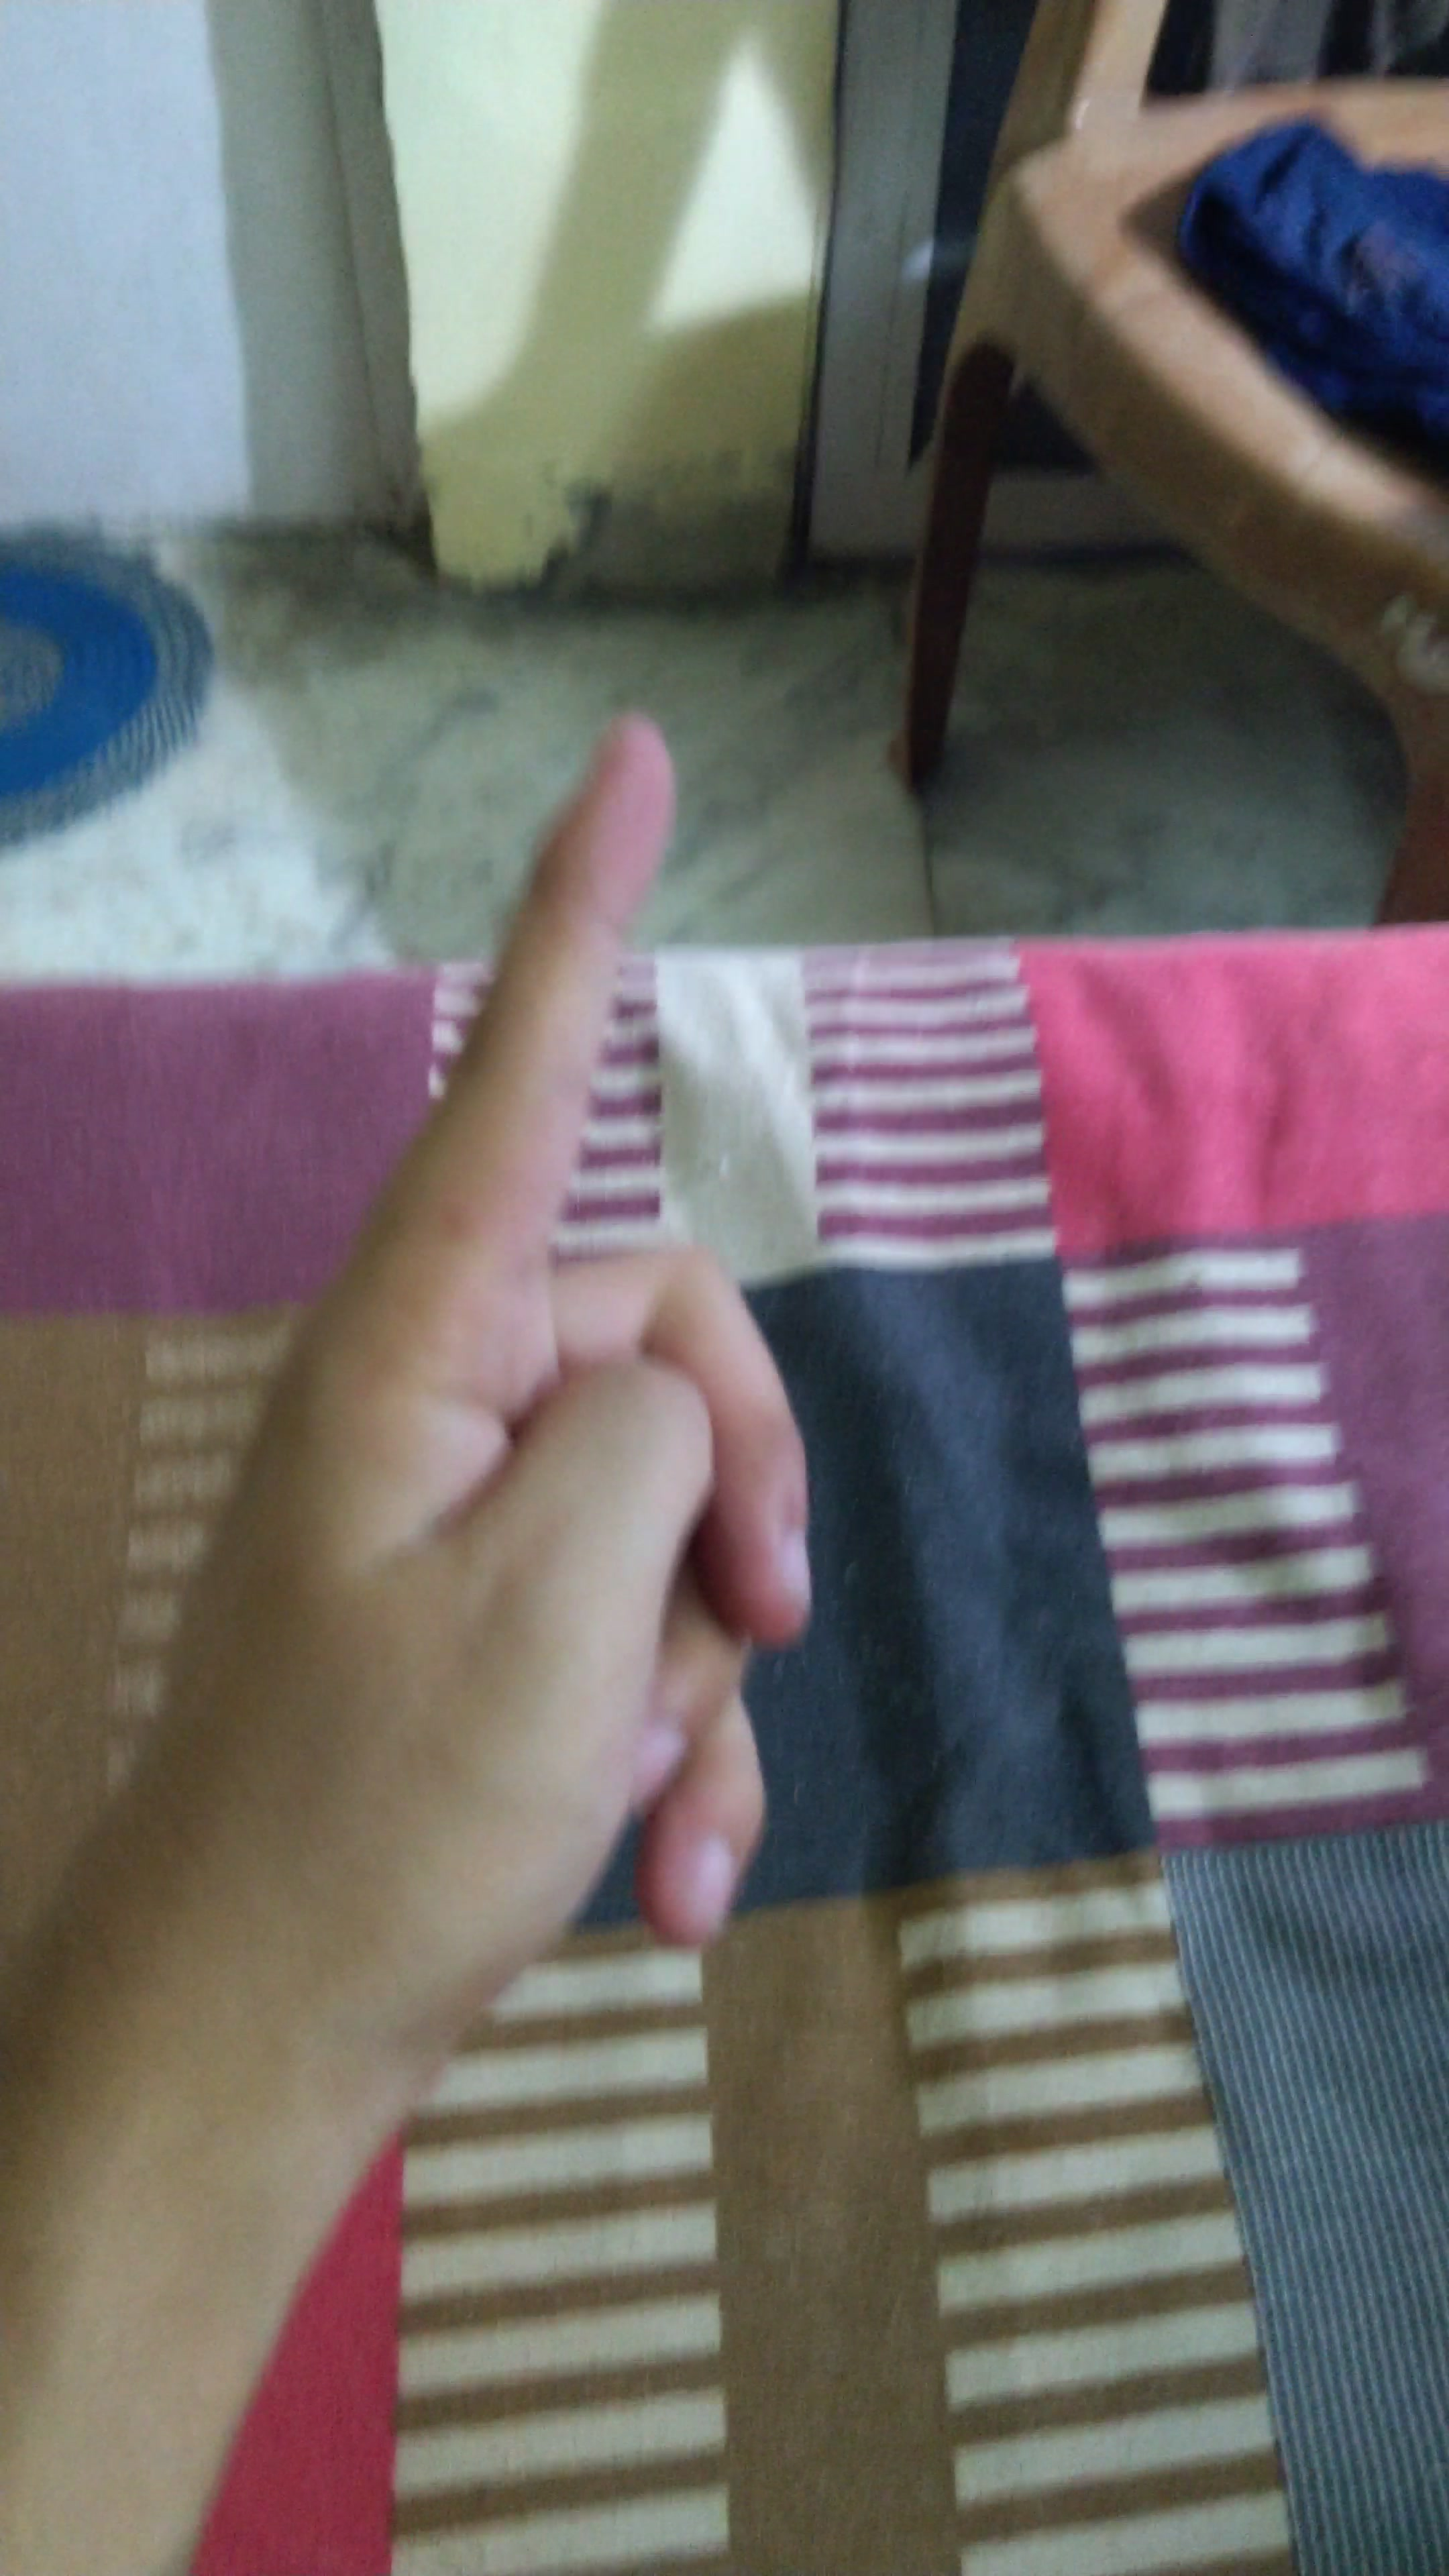hand: (147, 688, 856, 1987)
